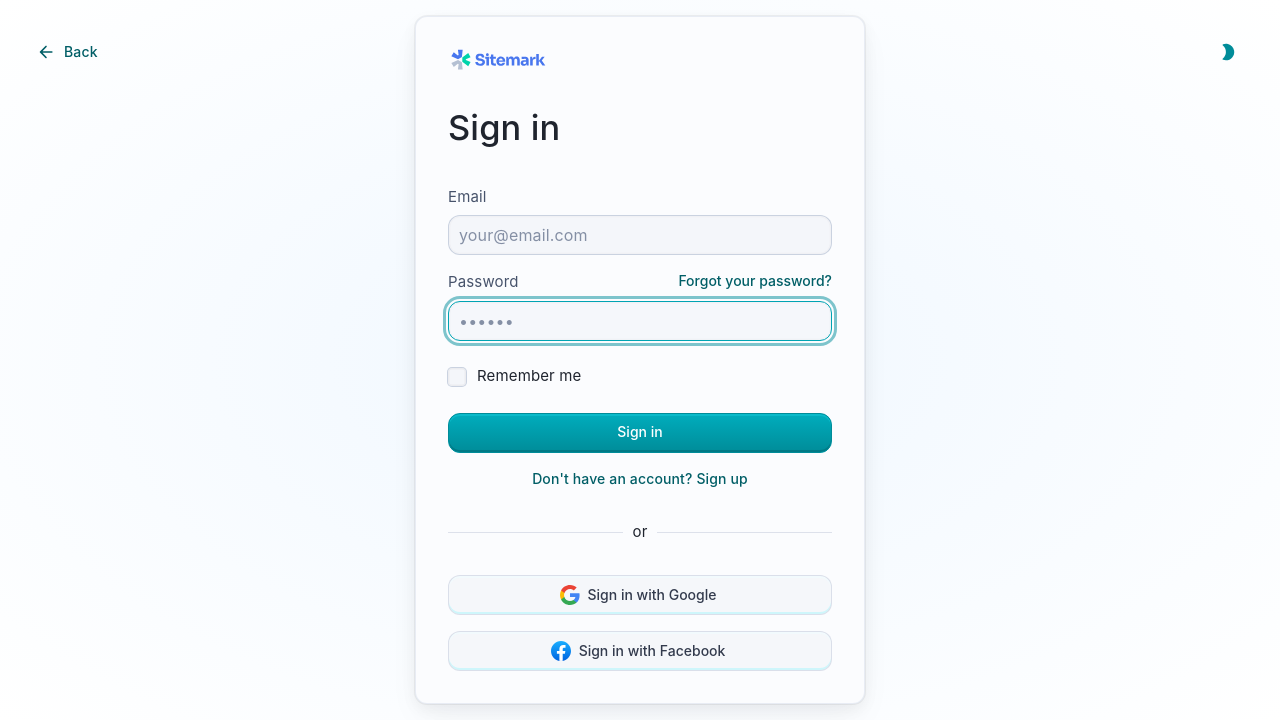
Test: SignIn › functionality and events › Forgot your password interactions › closes the modal on submission
Click the button "Forgot your password?": {"x": 755, "y": 281} [678,271,832,291]
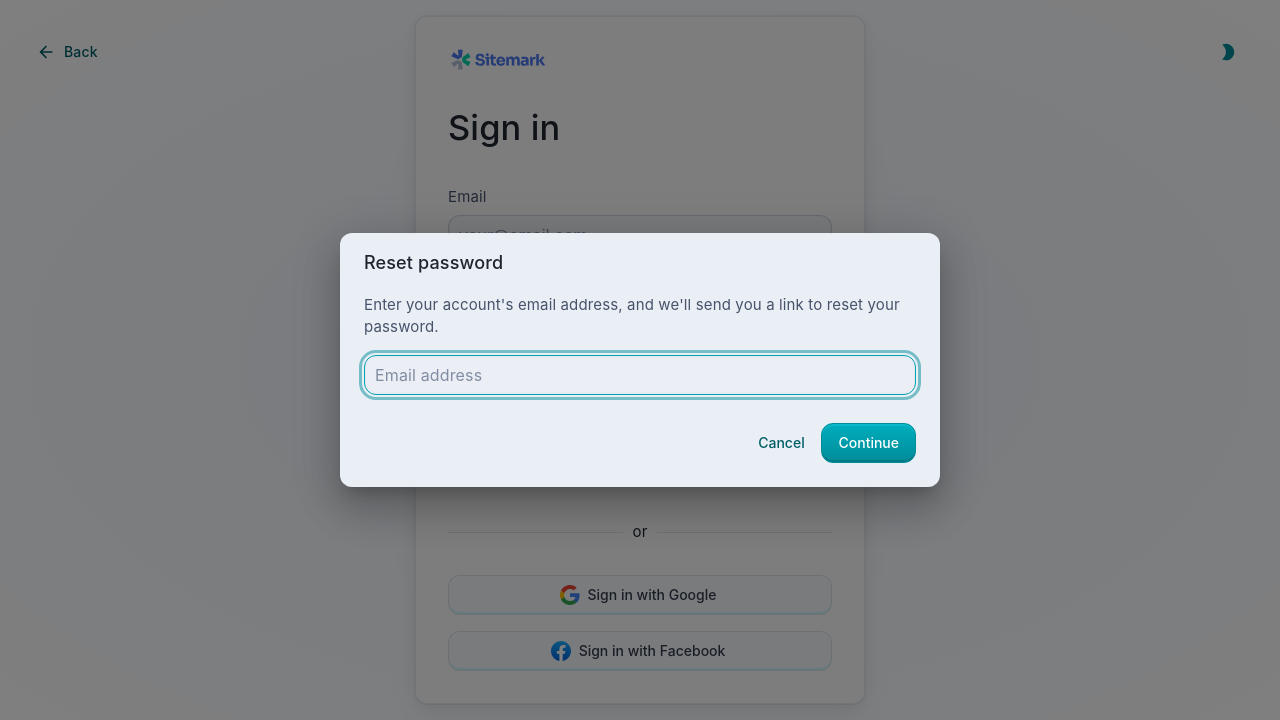
In the field with id "email": {"x": 640, "y": 375} [365,347,915,403], type "onehandman@lannister.org"
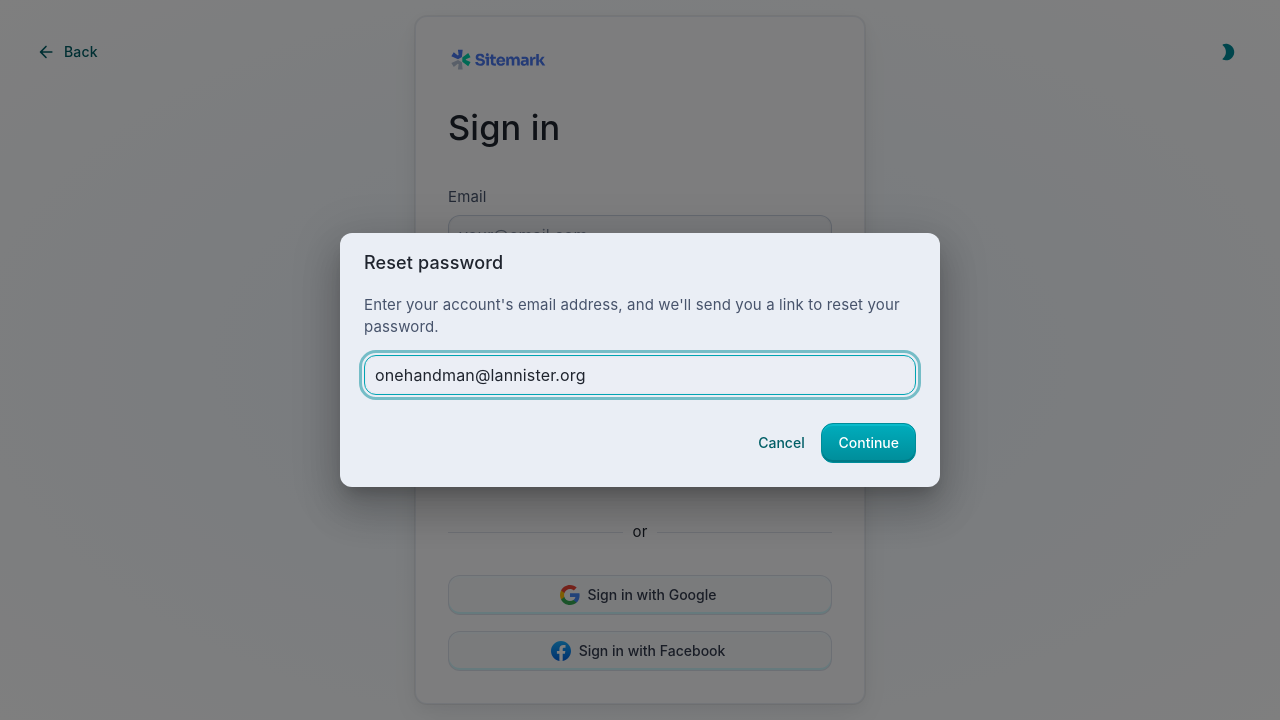
Click the button "Continue": {"x": 870, "y": 443} [822,423,917,463]
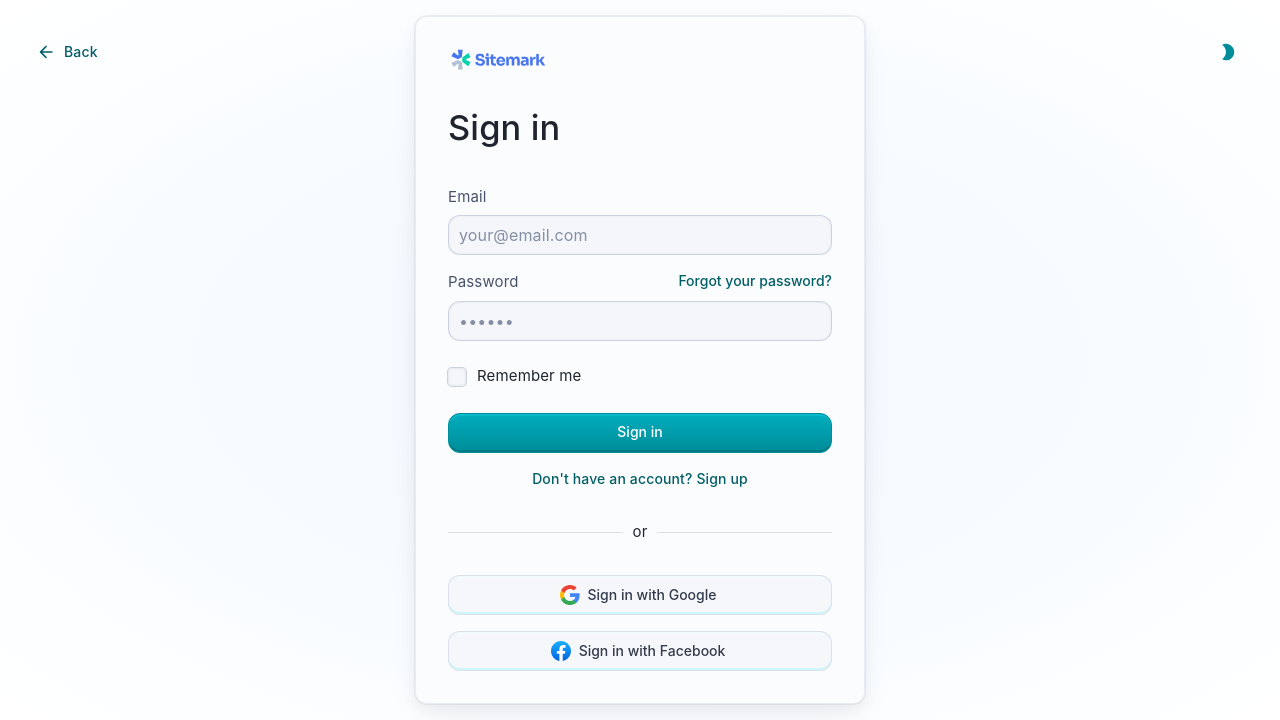
expect the element with id "forgot-password-dialog" is gone: met
